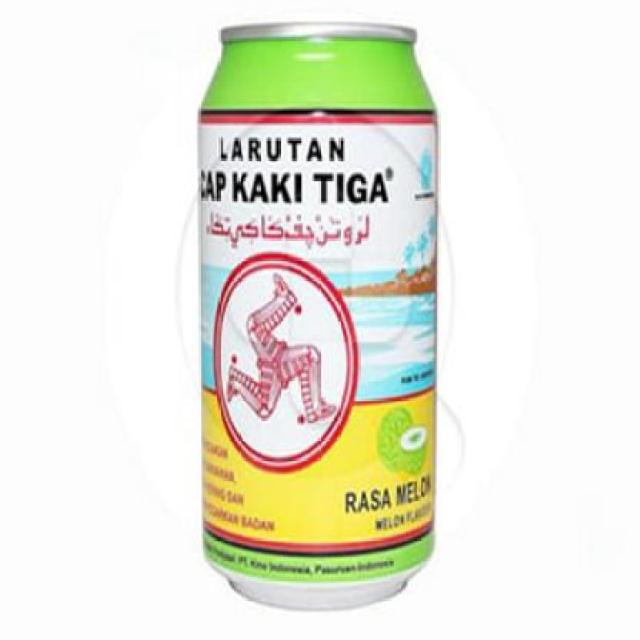Metal: (199, 21, 436, 610)
